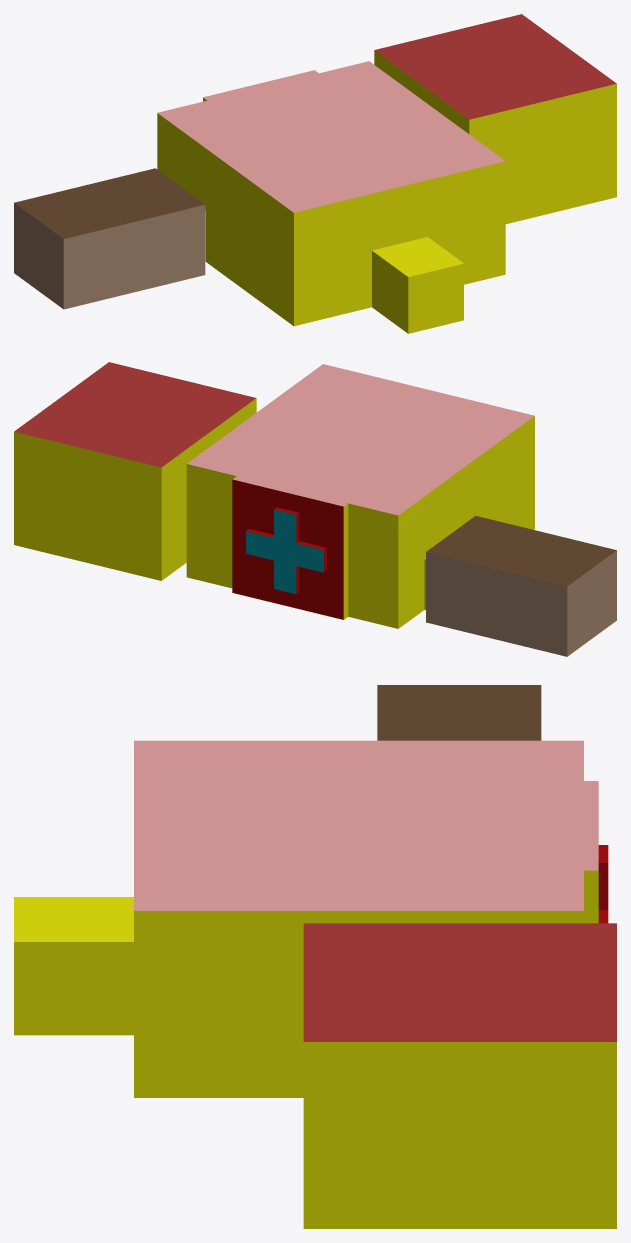
The model's file is IntroRoomsWithSetsOfUV - Version 3.fbx.
3 renders of one model, top to bottom at view 1: azimuth 30°, elevation 25°; view 2: azimuth 150°, elevation 25°; view 3: azimuth 270°, elevation 25°, orthographic. The views are drawn at different scales.
Parts seen in each view (by area): view 1: pCube2; view 2: pCube2; view 3: pCube2.
Boxes of the visible parts, bbox=[...] form: pCube2: bbox=[14, 14, 616, 333]; pCube2: bbox=[14, 362, 616, 656]; pCube2: bbox=[14, 685, 616, 1228].
Size of the model in its own units: 3948 by 807 by 2358.
